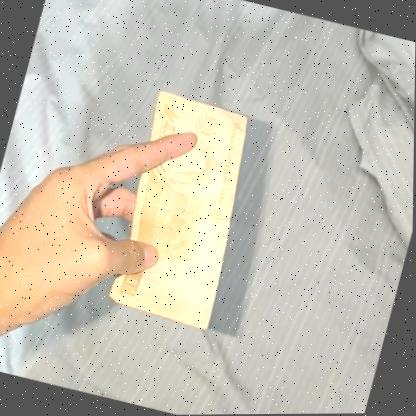five-back-vef: (103, 90, 265, 334)
